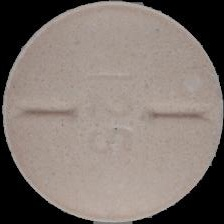43063-178: (0, 0, 224, 224)
